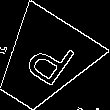P_SW: (12, 31, 75, 94)
